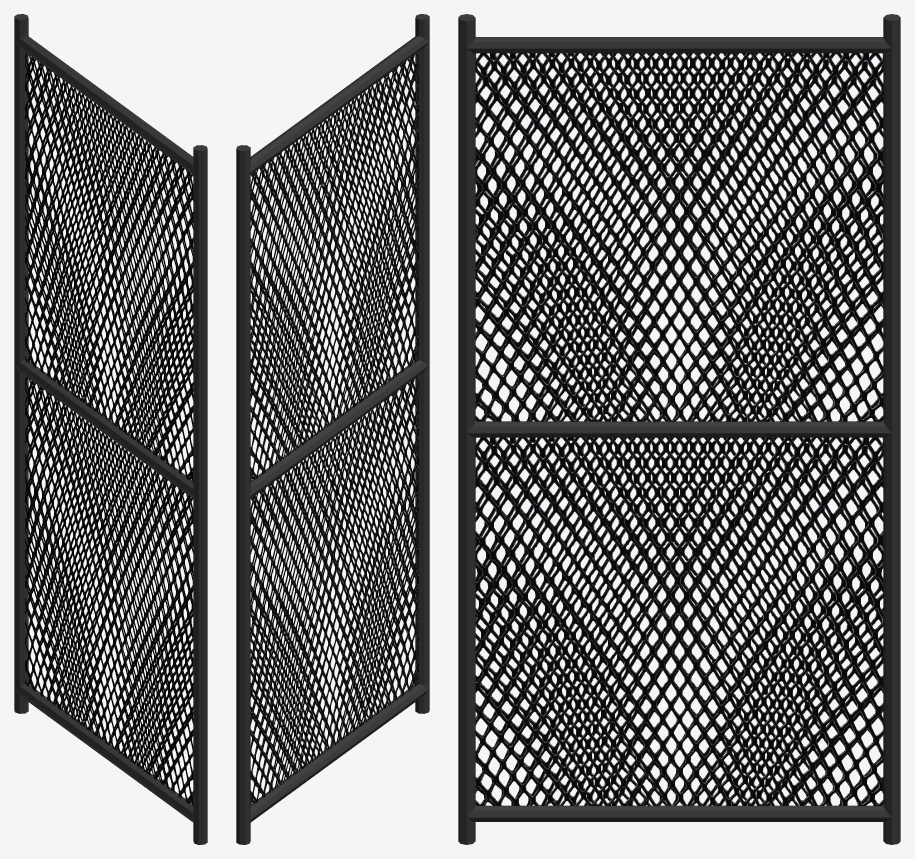
Rendered from Grade 2.fbx.
3 renders of one model, left to right at view 1: azimuth 30°, elevation 25°; view 2: azimuth 150°, elevation 25°; view 3: azimuth 270°, elevation 25°, orthographic. The views are drawn at different scales.
Visible parts, largest first — view 1: Grade; view 2: Grade; view 3: Grade.
Boxes of the visible parts, left/top/right/bottom form: Grade: left=14, top=14, right=207, bottom=844; Grade: left=236, top=14, right=429, bottom=844; Grade: left=458, top=14, right=900, bottom=844.
Bounding box in the file's own units: 8.2 × 429 × 209.
